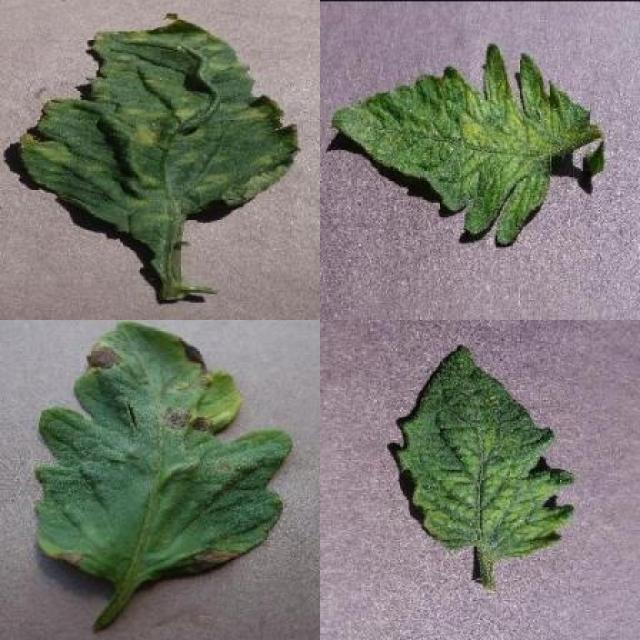Early Blight: (34, 322, 294, 584)
Leaf Mold: (22, 13, 301, 234)
Mosaic Virus: (328, 40, 592, 247), (396, 343, 578, 558)
